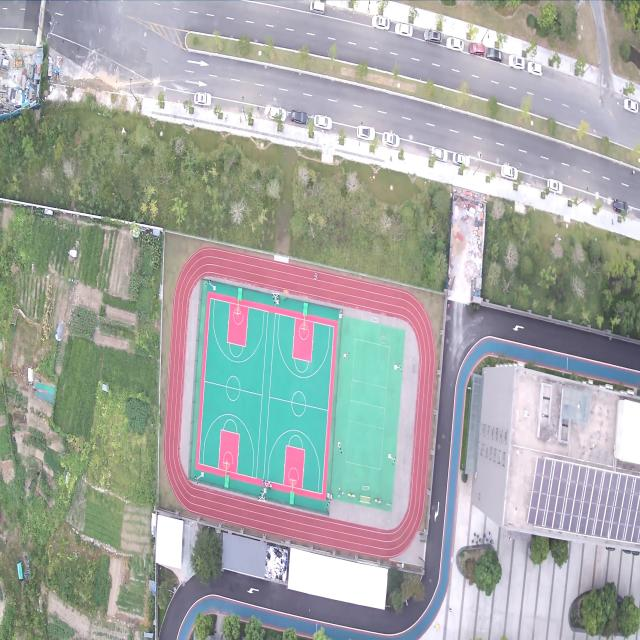UAV: (380, 334, 386, 344)
